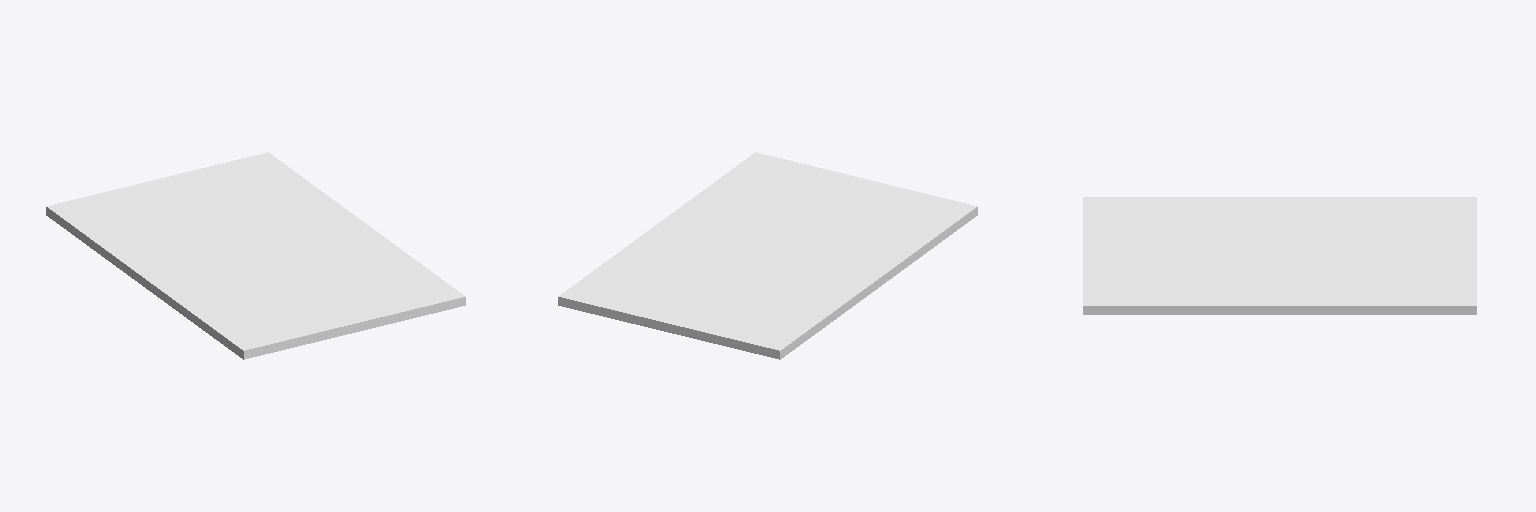
File: magazine3.obj
3 views of the same model, side by side, from view 1: azimuth 30°, elevation 25°; view 2: azimuth 150°, elevation 25°; view 3: azimuth 270°, elevation 25° (orthographic).
Parts seen in each view (by area): view 1: object 1; view 2: object 1; view 3: object 1.
Part boxes in pixels (x1,y1,x2,y2): object 1: (46, 152, 465, 359); object 1: (558, 152, 977, 359); object 1: (1083, 197, 1476, 314).
Bounding box in the file's own units: 2.6 × 0.1 × 4.